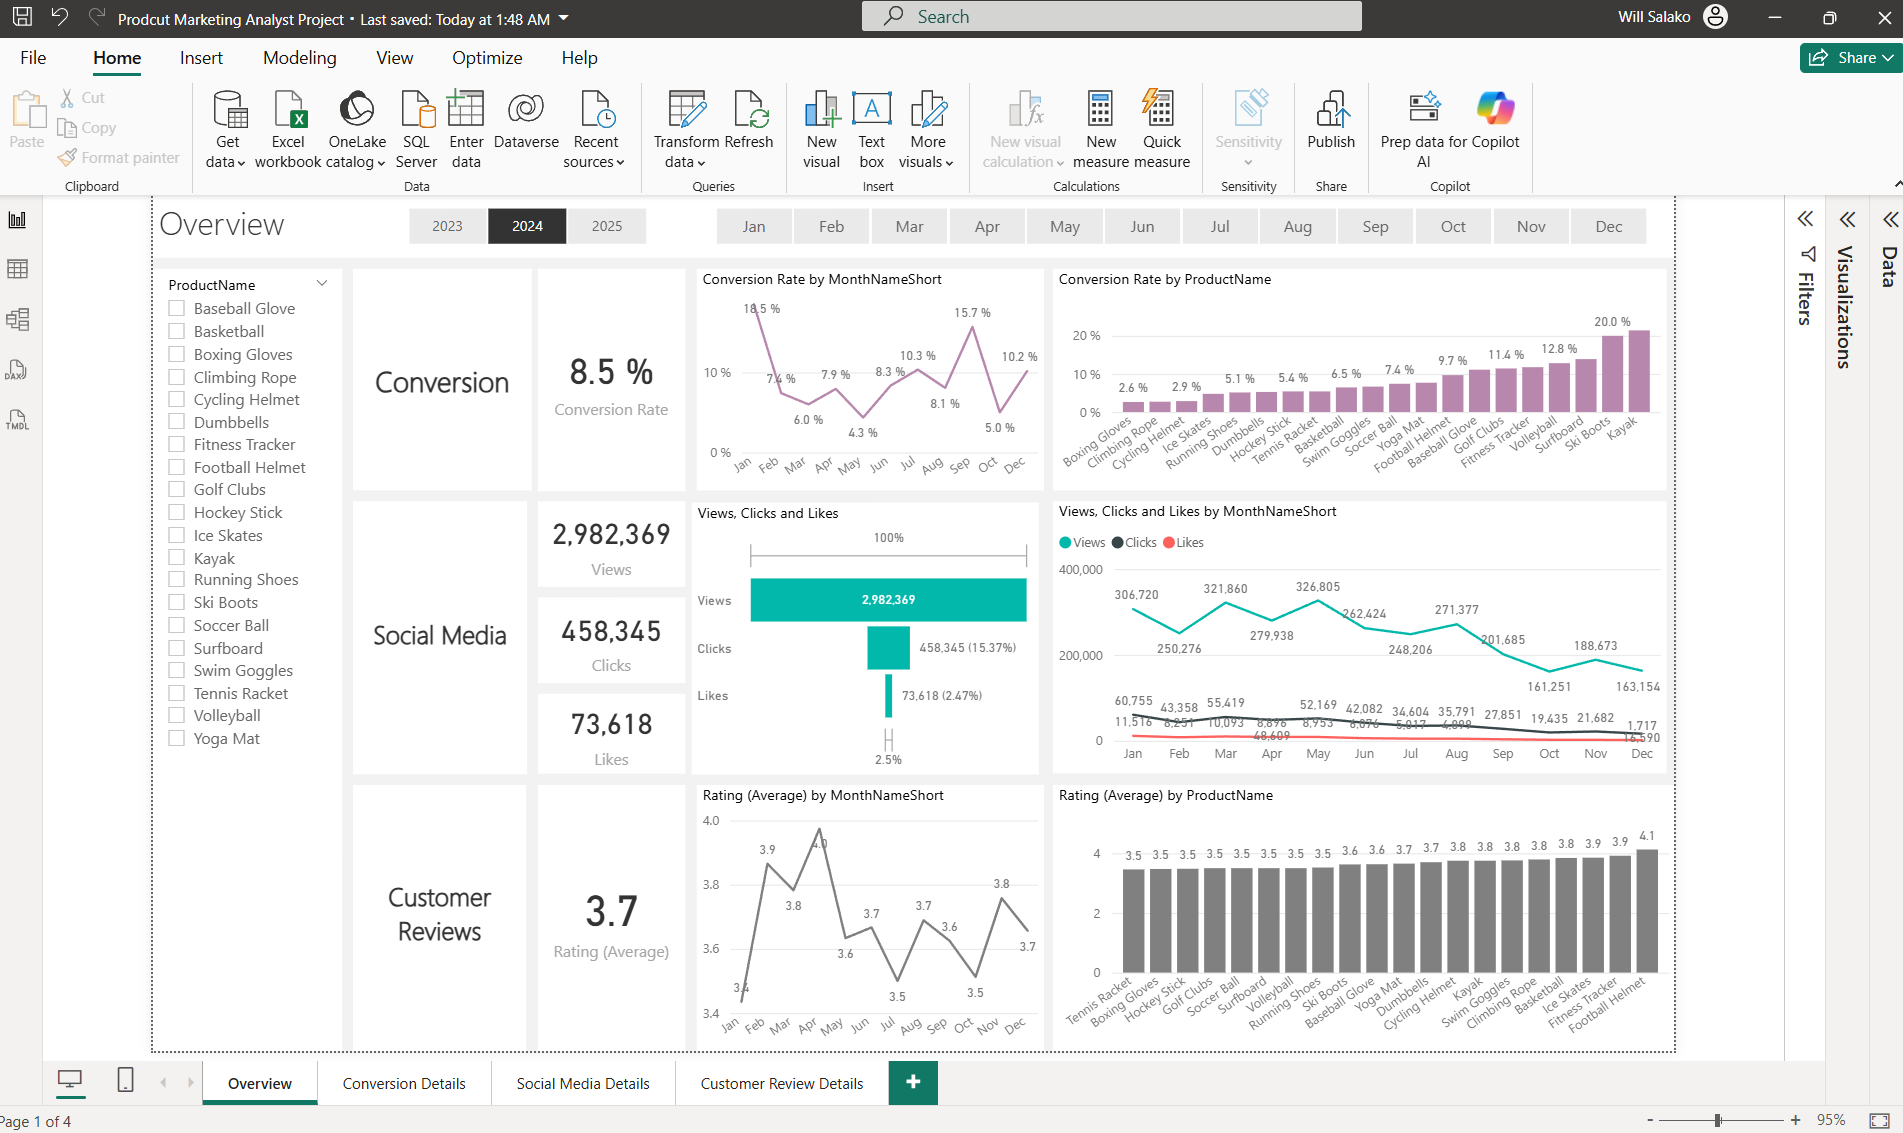

What the dashboard file says about the page in this screenshot:
{"tool":"powerbi","page":{"name":"Overview","canvas":[1280,720],"ordinal":0},"visuals":[{"type":"textbox","box":[0,0,1280,52.6],"z":0},{"type":"slicer","fields":{"Values":["dim_products.ProductName"]},"box":[0,61.6,159.5,658.5],"z":1000},{"type":"card","fields":{"Values":["_Calculations.Conversion Rate"]},"box":[324.1,61.9,123.9,186.8],"z":2000},{"type":"card","fields":{"Values":["_Calculations.Rating (Average)"]},"box":[324.1,496.5,123.9,224],"z":3000},{"type":"lineChart","fields":{"Y":["_Calculations.Conversion Rate"],"Category":["Calendar.MonthNameShort"]},"box":[457.1,61.9,292.3,186.7],"z":4000},{"type":"columnChart","fields":{"Category":["dim_products.ProductName"],"Y":["_Calculations.Conversion Rate"]},"box":[756.7,61.9,516.3,186.7],"z":5000},{"type":"slicer","fields":{"Values":["Calendar.Year"]},"box":[189.4,4.6,249.5,43.7],"z":6000},{"type":"slicer","fields":{"Values":["Calendar.MonthNameShort"]},"box":[448,4.6,832.3,43.7],"z":7000},{"type":"lineChart","fields":{"Y":["_Calculations.Views","_Calculations.Clicks","_Calculations.Likes"],"Category":["Calendar.MonthNameShort"]},"box":[756.6,258.1,516.1,229.2],"z":8000},{"type":"lineChart","fields":{"Category":["Calendar.MonthNameShort"],"Y":["_Calculations.Rating (Average)"]},"box":[457.1,496.3,292.3,224],"z":9000},{"type":"columnChart","fields":{"Category":["dim_products.ProductName"],"Y":["_Calculations.Rating (Average)"]},"box":[756.6,496.5,523.4,224],"z":10000},{"type":"funnel","fields":{"Y":["_Calculations.Views","_Calculations.Clicks","_Calculations.Likes"]},"box":[453.5,258.1,291.9,229.1],"z":11000},{"type":"card","fields":{"Values":["_Calculations.Views"]},"box":[324.2,257.7,123.8,71.9],"z":12000},{"type":"textbox","box":[168.5,61.9,150.3,186.7],"z":13000},{"type":"textbox","box":[168.5,257.7,146.6,229.5],"z":14000},{"type":"textbox","box":[168.5,496.3,145.7,224],"z":15000},{"type":"card","fields":{"Values":["_Calculations.Clicks"]},"box":[324.2,338.8,123.8,71.9],"z":16000},{"type":"card","fields":{"Values":["_Calculations.Likes"]},"box":[324.2,419.8,123.8,67.4],"z":17000}]}

Visuals, with their boxes on the page's 1280x720 design canvas (x1, y1, x2, y2). These are canvas units, not pixel positions in the 1903x1133 screenshot, which may show the page scaled, cropped or inside an application window:
textbox: locate(0, 0, 1280, 53)
slicer - dim_products.ProductName: locate(0, 62, 160, 720)
card - _Calculations.Conversion Rate: locate(324, 62, 448, 249)
card - _Calculations.Rating (Average): locate(324, 496, 448, 720)
lineChart - _Calculations.Conversion Rate x Calendar.MonthNameShort: locate(457, 62, 749, 249)
columnChart - dim_products.ProductName x _Calculations.Conversion Rate: locate(757, 62, 1273, 249)
slicer - Calendar.Year: locate(189, 5, 439, 48)
slicer - Calendar.MonthNameShort: locate(448, 5, 1280, 48)
lineChart - _Calculations.Views x _Calculations.Clicks: locate(757, 258, 1273, 487)
lineChart - Calendar.MonthNameShort x _Calculations.Rating (Average): locate(457, 496, 749, 720)
columnChart - dim_products.ProductName x _Calculations.Rating (Average): locate(757, 496, 1280, 720)
funnel - _Calculations.Views x _Calculations.Clicks: locate(454, 258, 745, 487)
card - _Calculations.Views: locate(324, 258, 448, 330)
textbox: locate(168, 62, 319, 249)
textbox: locate(168, 258, 315, 487)
textbox: locate(168, 496, 314, 720)
card - _Calculations.Clicks: locate(324, 339, 448, 411)
card - _Calculations.Likes: locate(324, 420, 448, 487)
